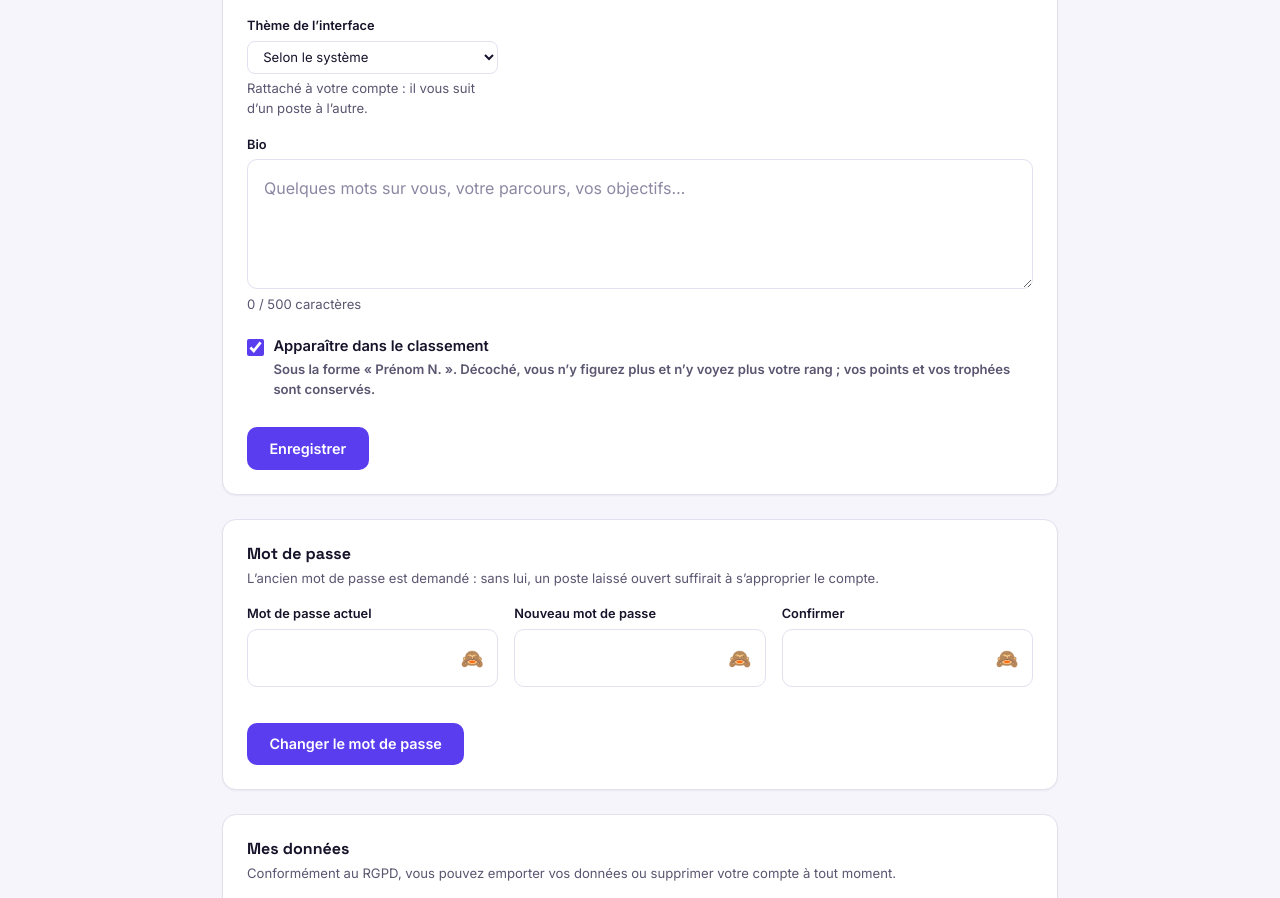
ProfilePage › affiche un message d’erreur lisible plutôt que l’objet brut de DRF
This screenshot has width=1280, height=898.
(page scrolled)
Click the button "Enregistrer": (308, 449) [247,427,369,470]
(page scrolled)
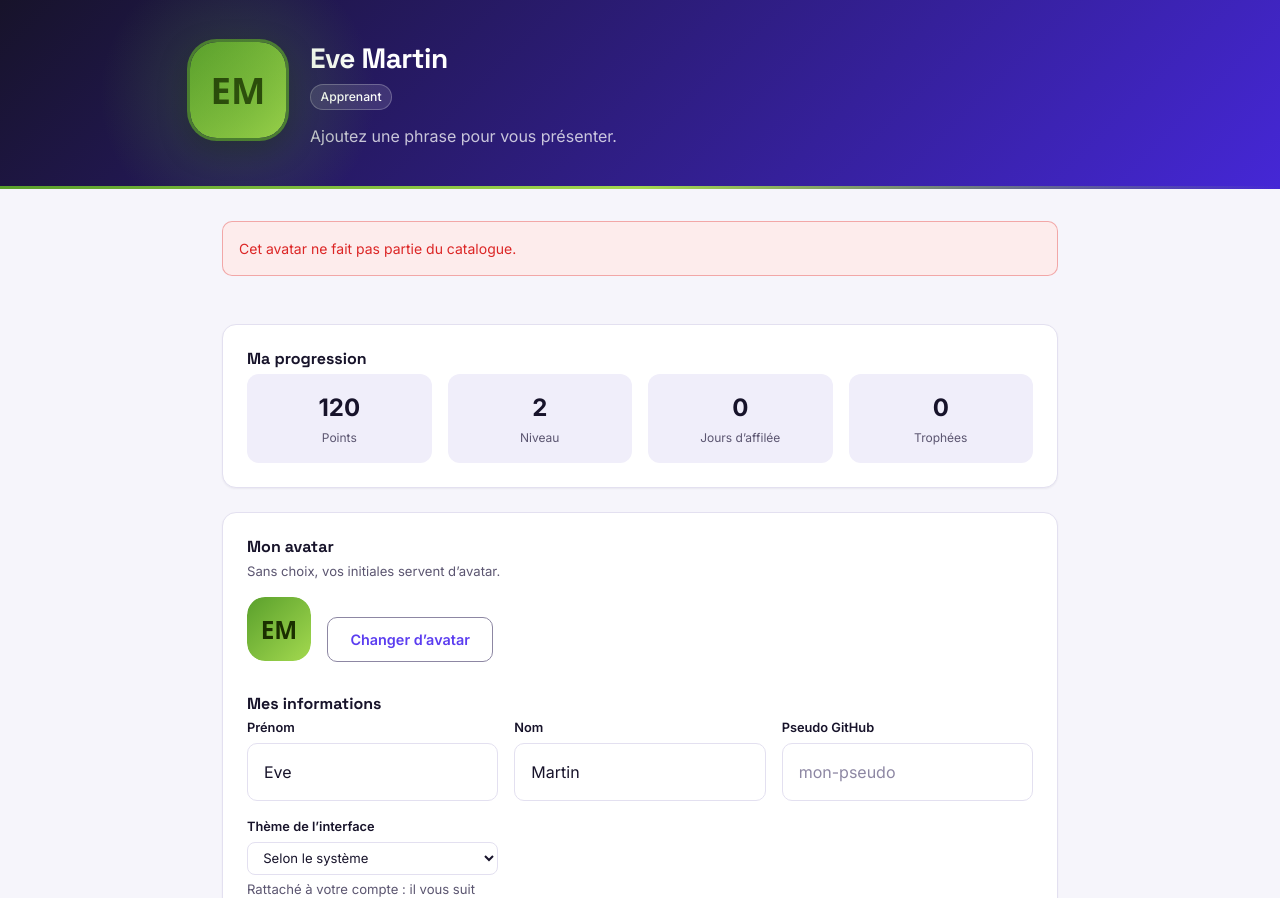
Check: the message reads "Cet avatar ne fait pas partie du catalogue.", box [239,240,516,257]
